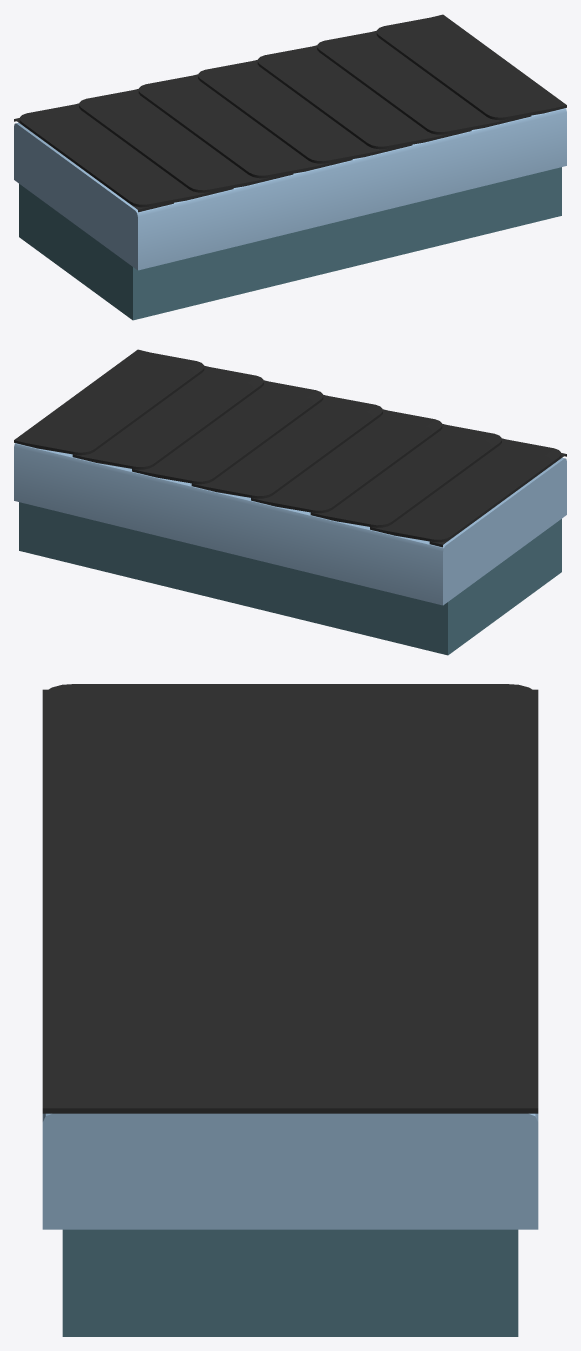
The model's file is Airport_Band2.fbx.
The picture shows the model from 3 angles, top to bottom: view 1: azimuth 30°, elevation 25°; view 2: azimuth 150°, elevation 25°; view 3: azimuth 270°, elevation 25°; orthographic projection. The views are drawn at different scales.
Parts seen in each view (by area): view 1: 12.2.BaggageClaimBand; view 2: 12.2.BaggageClaimBand; view 3: 12.2.BaggageClaimBand.
Part boxes in pixels (x1,y1,x2,y2): 12.2.BaggageClaimBand: [14, 14, 566, 320]; 12.2.BaggageClaimBand: [14, 349, 566, 655]; 12.2.BaggageClaimBand: [42, 684, 538, 1336].
Size of what is drawn, in the model's own units: 350 by 91.23 by 175.
1 material, 1 textured.
